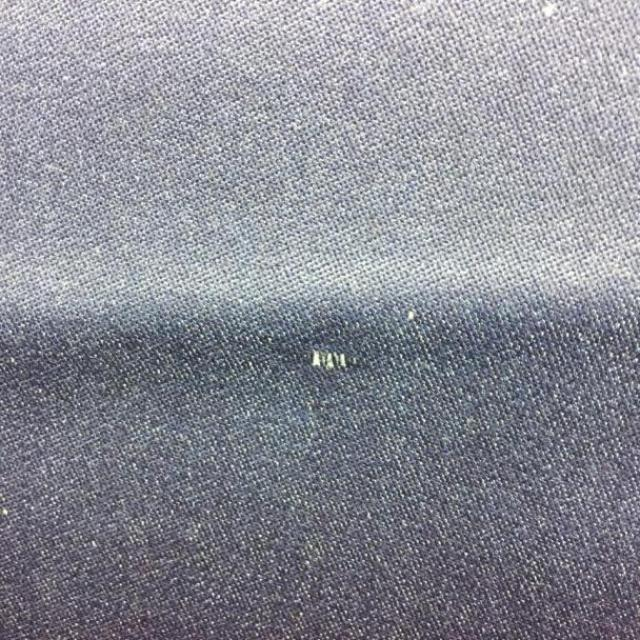Knot: (313, 352, 347, 370)
